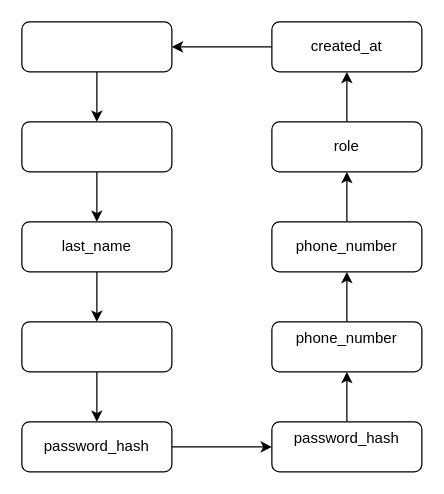
Some shapes in this 444 by 494 pixel diagram are drawn without their labels. The centre of each missing label's shape, as x and y in pixels:
"email" goes at (96,346).
"first_name" goes at (96,146).
"user_id (PK)" goes at (96,46).
